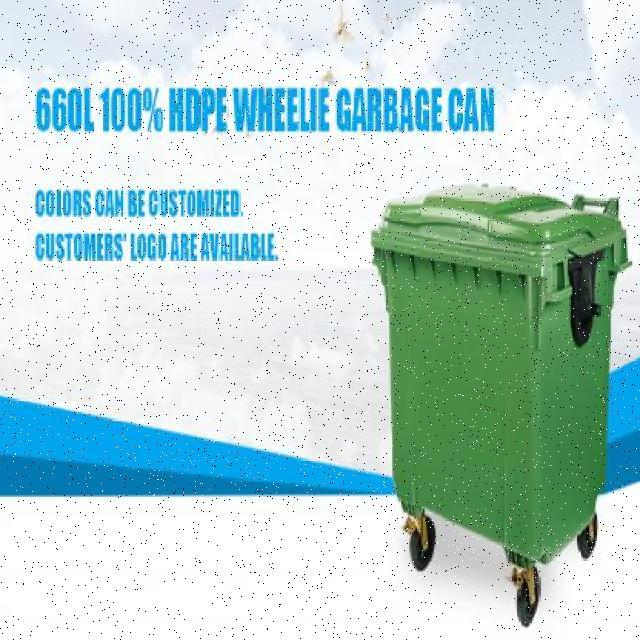garbage container: (365, 177, 640, 640)
